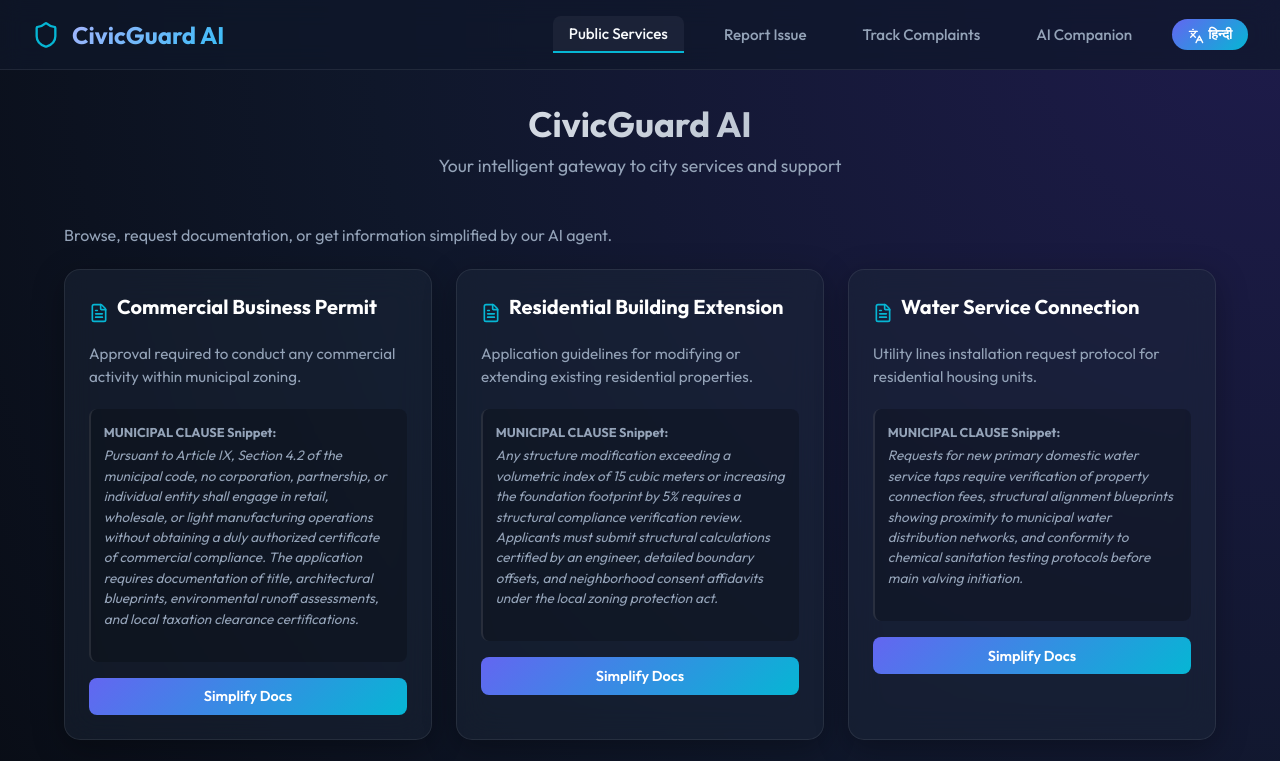
Scenario: Report issue form › shows error when citizenId is not set (session failed)
Click the button "Report Issue" at (765, 34), box [708,17,823,52]
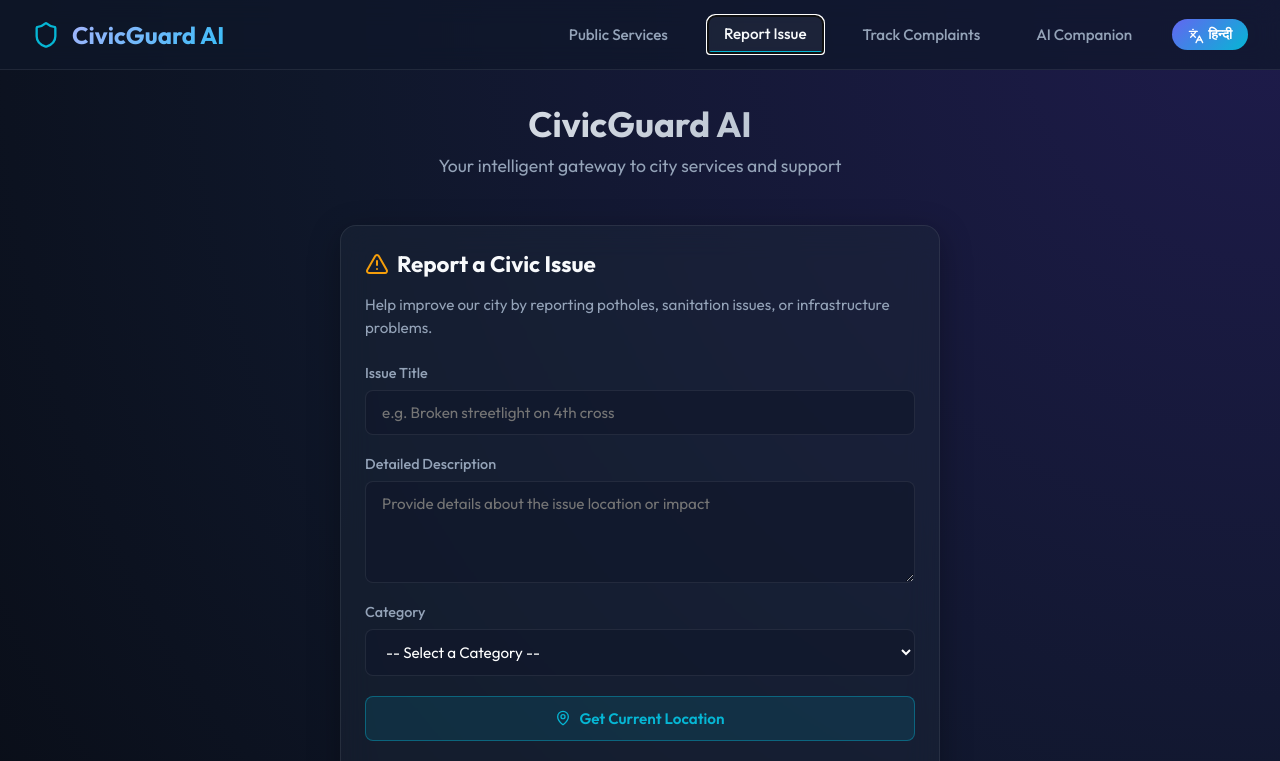
Type "Broken road" into the field labelled "Issue Title" at (640, 412), box [365,390,915,435]
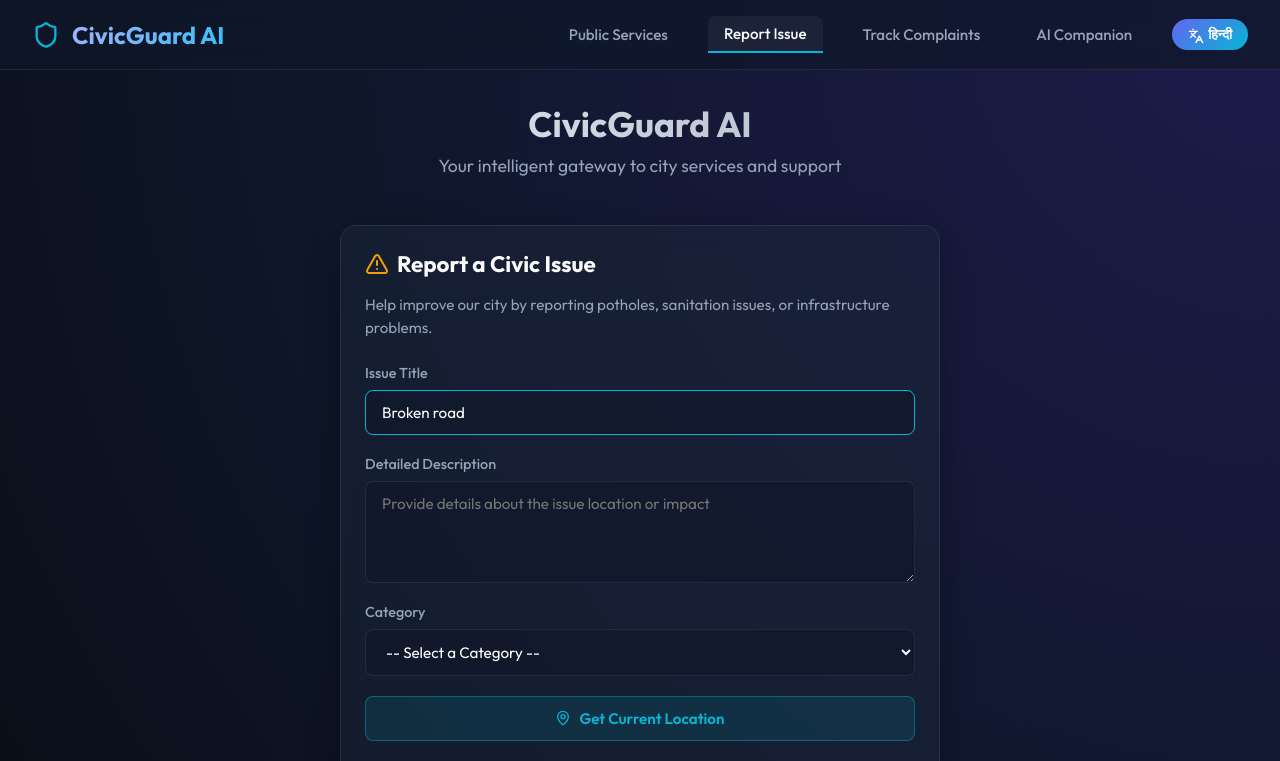
Type "Big pothole" into the text box labelled "Detailed Description" at (640, 532), box [365,481,915,583]
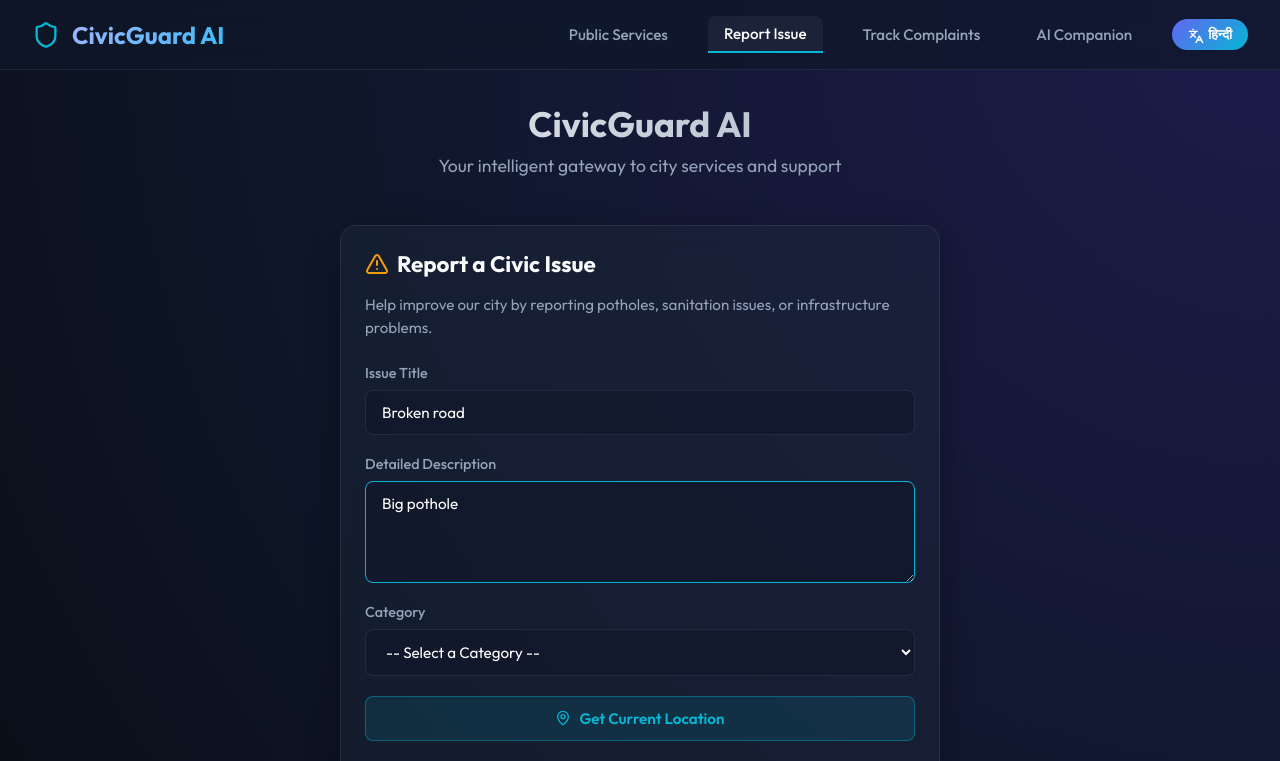
Select "Infrastructure (Roads, Potholes)" in the dropdown labelled "Category" at (640, 652), box [365,629,915,676]
(page scrolled)
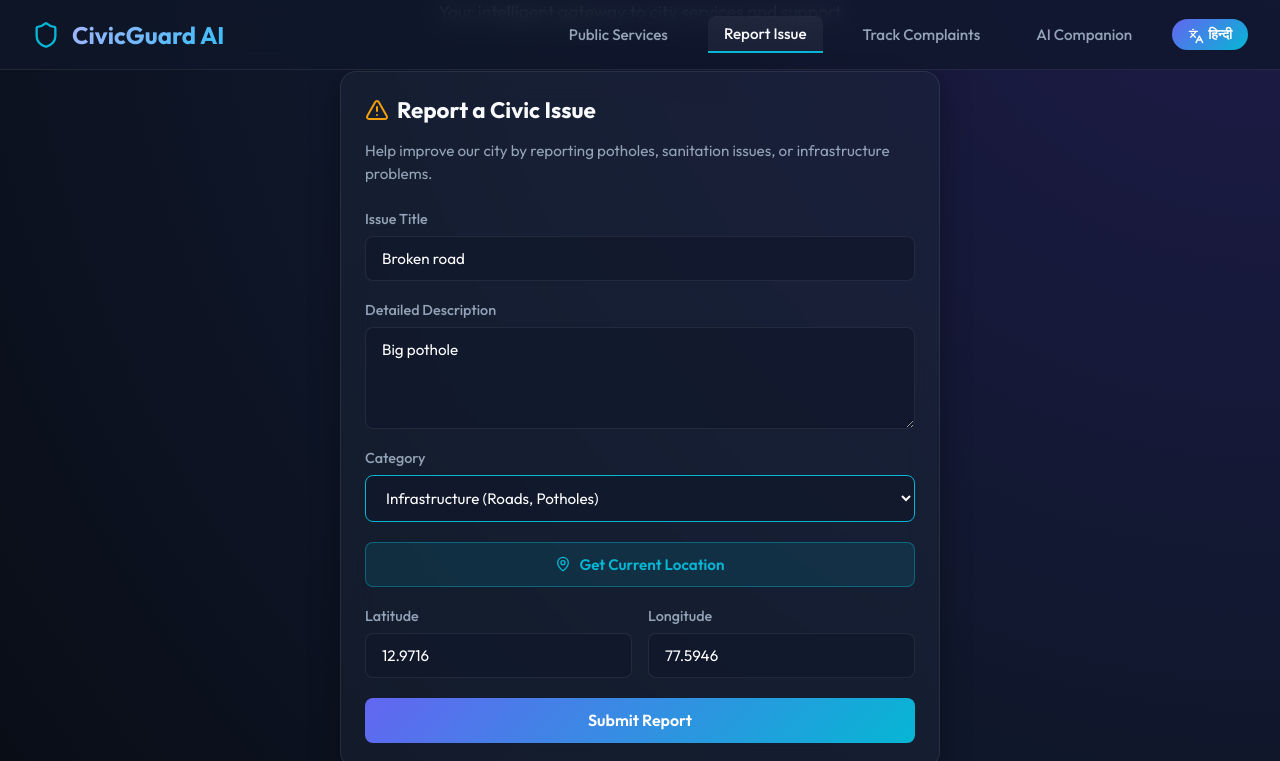
Click the button "Submit Report" at (640, 720), box [365,698,915,743]
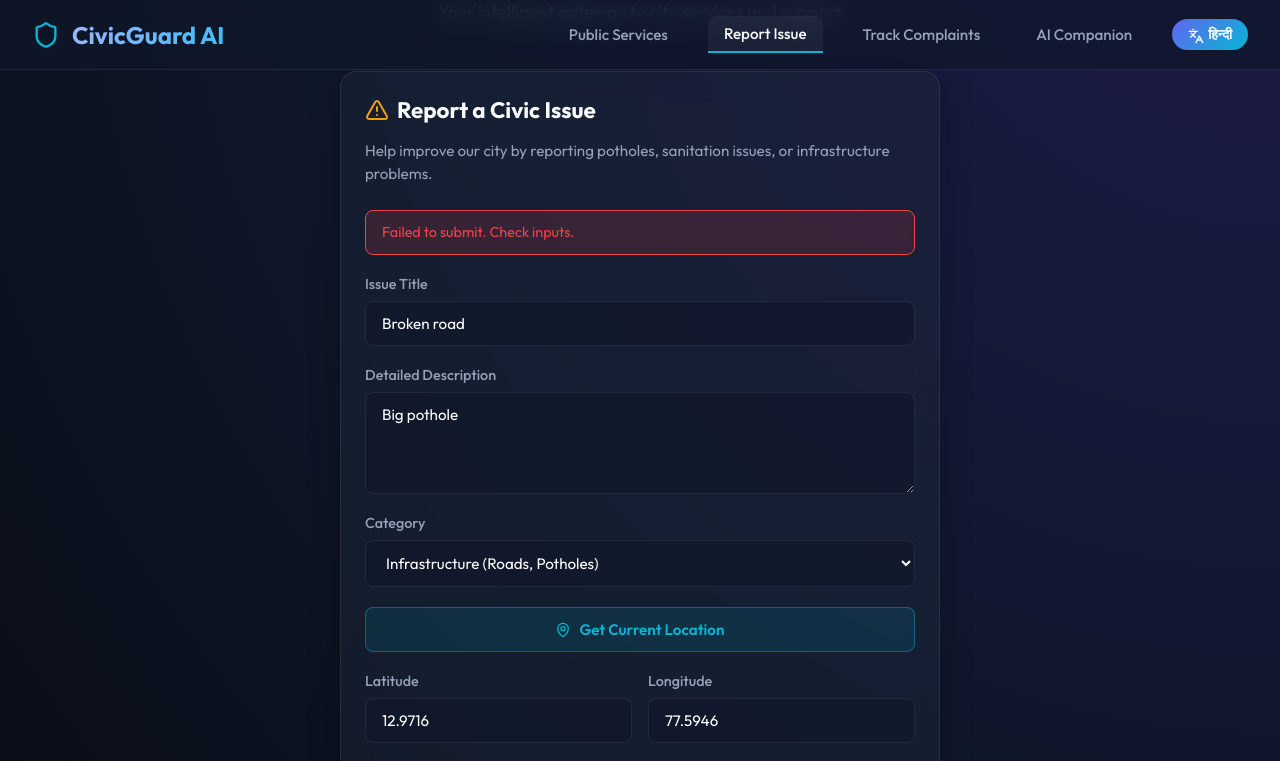
Check: the text "Failed to submit. Check inputs." is shown, box [365,210,915,255]
